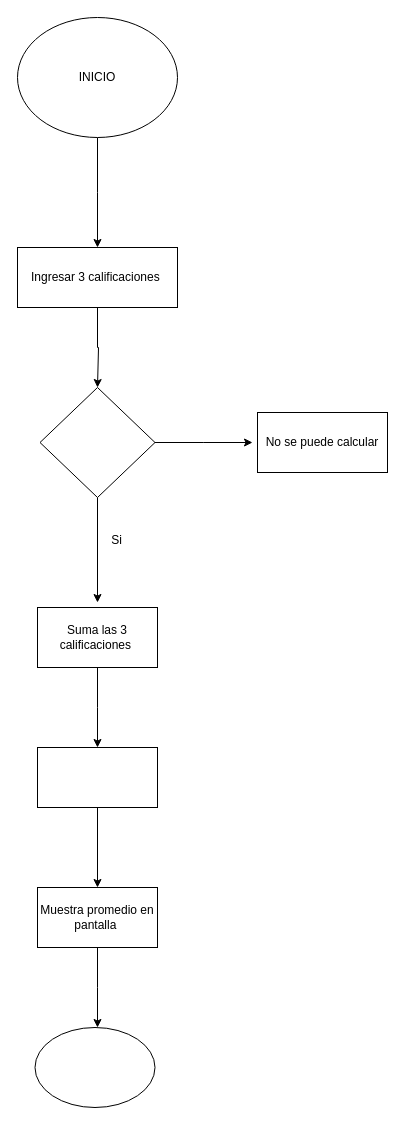
This 405x1125 diagram has some shape labels left out. Here are the shapes that lost their labels. From the top down, the centre of each, then its label:
At point 97,442: "¿Se agregaron?".
At point 97,777: "Divide el resultado entre 3".
At point 94,1067: "FIN".
